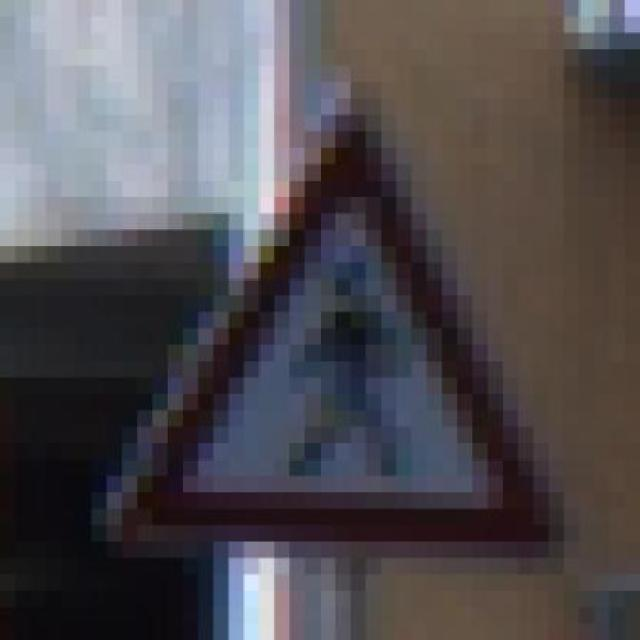Pedestrian Crossing: (92, 66, 579, 574)
